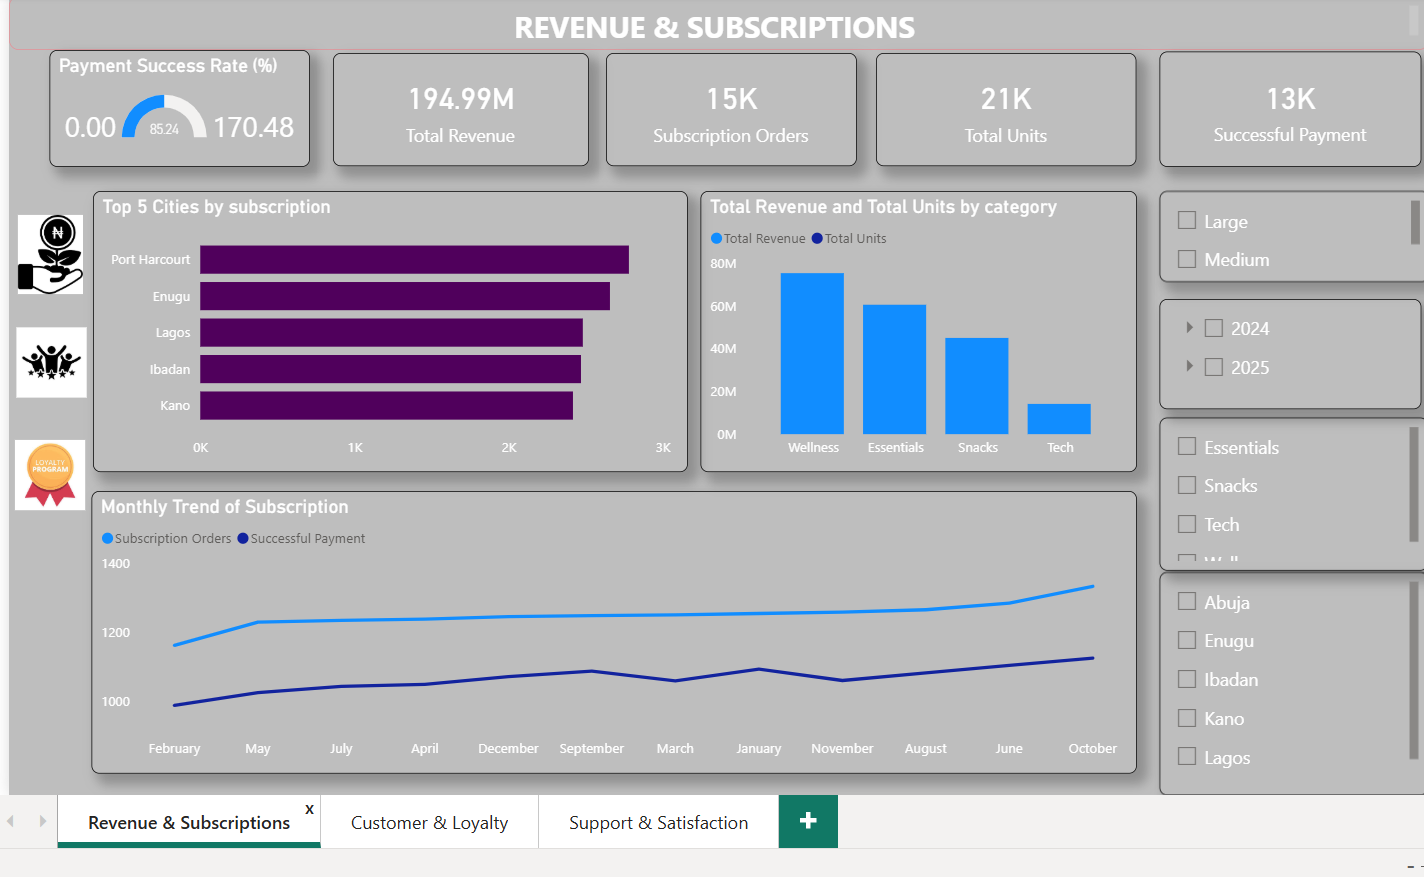

The dashboard page shown, as its layout file describes it:
{"tool":"powerbi","page":{"name":"Revenue & Subscriptions ","canvas":[1280,720],"ordinal":0},"visuals":[{"type":"textbox","box":[0,0,1279.4,48.7],"z":0},{"type":"columnChart","fields":{"Category":["public bundles.category"],"Y":["public support_tickets.Total Revenue","public support_tickets.Total Units"]},"box":[623.5,175.7,393.1,253.4],"z":1000},{"type":"slicer","fields":{"Values":["public bundles.bundle_size"]},"box":[1036.8,175.7,243.4,82.1],"z":2000},{"type":"lineChart","title":"Monthly Trend of Subscription","fields":{"Y":["public support_tickets.Subscription Orders","public support_tickets.Successful Payment"],"Category":["DateTable.Date.Variation.Date Hierarchy.Month"]},"box":[74.9,446.4,941.8,254.9],"z":3000},{"type":"barChart","title":"Top 5 Cities by subscription","fields":{"Category":["public customers.city"],"Y":["public support_tickets.Subscription Count"]},"box":[76.3,175.7,535.7,253.4],"z":4000},{"type":"slicer","fields":{"Values":["DateTable.Date.Variation.Date Hierarchy.Year","DateTable.Date.Variation.Date Hierarchy.Month"]},"box":[1036.8,273.6,236.2,99.4],"z":5000},{"type":"slicer","fields":{"Values":["public bundles.category"]},"box":[1036.8,380.2,241.9,138.2],"z":6000},{"type":"slicer","fields":{"Values":["public customers.city"]},"box":[1036.8,518.4,241.9,201.6],"z":7000},{"type":"card","fields":{"Values":["public support_tickets.Total Revenue"]},"box":[292.3,51.8,230.4,102.2],"z":8000},{"type":"card","fields":{"Values":["public support_tickets.Subscription Orders"]},"box":[538.6,51.8,226.1,102.2],"z":9000},{"type":"card","fields":{"Values":["public support_tickets.Total Units"]},"box":[781.9,51.8,234.7,102.2],"z":10000},{"type":"card","fields":{"Values":["public support_tickets.Successful Payment"]},"box":[1036.8,50.4,236.2,103.7],"z":11000},{"type":"gauge","fields":{"Y":["public support_tickets.Payment Success Rate (%)"]},"box":[36,49,234.7,105.1],"z":12000},{"type":"image","box":[1.7,191.7,71.7,81.7],"z":13000},{"type":"image","box":[1.7,288.3,73.3,85],"z":14000},{"type":"image","box":[0,395,73.3,73.3],"z":15000}]}

Visuals, with their boxes in screenshot pixels (x1, y1, x2, y2):
textbox: x1=15 y1=0 x2=1418 y2=50
columnChart - public bundles.category x public support_tickets.Total Revenue: x1=699 y1=189 x2=1130 y2=467
slicer - public bundles.bundle_size: x1=1152 y1=189 x2=1419 y2=279
"Monthly Trend of Subscription" lineChart: x1=97 y1=486 x2=1130 y2=766
"Top 5 Cities by subscription" barChart: x1=99 y1=189 x2=686 y2=467
slicer - DateTable.Date.Variation.Date Hierarchy.Year x DateTable.Date.Variation.Date Hierarchy.Month: x1=1152 y1=296 x2=1411 y2=406
slicer - public bundles.category: x1=1152 y1=413 x2=1418 y2=565
slicer - public customers.city: x1=1152 y1=565 x2=1418 y2=786
card - public support_tickets.Total Revenue: x1=336 y1=53 x2=588 y2=165
card - public support_tickets.Subscription Orders: x1=606 y1=53 x2=854 y2=165
card - public support_tickets.Total Units: x1=873 y1=53 x2=1130 y2=165
card - public support_tickets.Successful Payment: x1=1152 y1=52 x2=1411 y2=165
gauge - public support_tickets.Payment Success Rate (%): x1=54 y1=50 x2=312 y2=165
image: x1=17 y1=207 x2=95 y2=296
image: x1=17 y1=313 x2=97 y2=406
image: x1=15 y1=430 x2=95 y2=510
